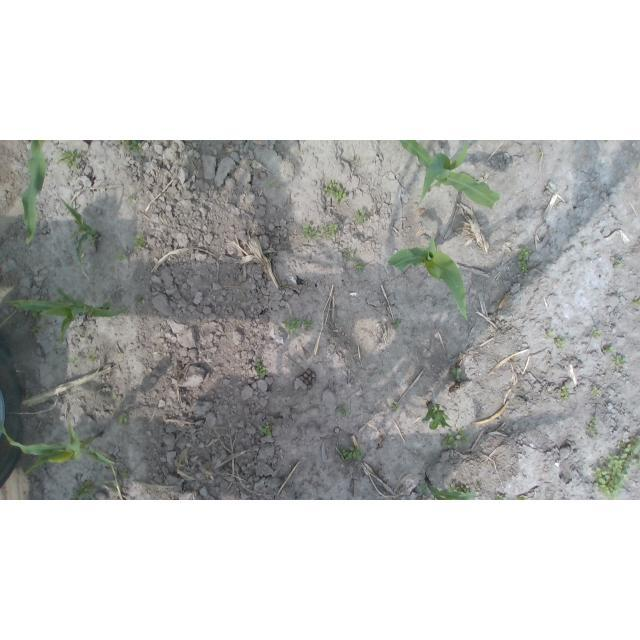Maize: (399, 140, 504, 210), (388, 236, 471, 321), (1, 418, 116, 479), (6, 287, 131, 342), (59, 199, 102, 274), (23, 141, 46, 248), (425, 477, 479, 500), (422, 401, 452, 431)
Weeds: (594, 437, 640, 499), (58, 151, 83, 174), (285, 317, 315, 333), (327, 182, 350, 201), (305, 225, 338, 238), (606, 348, 626, 368), (443, 431, 466, 447), (342, 447, 363, 462), (519, 248, 531, 273), (587, 418, 600, 441), (75, 484, 93, 500), (134, 236, 144, 252), (559, 385, 570, 399), (357, 210, 368, 224), (337, 407, 350, 418), (256, 364, 265, 377), (262, 422, 271, 435), (452, 368, 460, 382), (590, 330, 601, 339), (615, 258, 624, 269), (119, 415, 127, 426), (130, 146, 144, 152), (393, 320, 402, 329), (556, 339, 565, 348), (594, 386, 601, 396), (70, 357, 79, 364), (496, 494, 505, 500), (356, 263, 362, 272), (344, 253, 353, 259), (118, 253, 125, 260), (121, 471, 128, 478), (518, 496, 527, 501), (392, 405, 399, 411), (545, 330, 551, 337), (635, 298, 640, 306), (281, 282, 285, 291)
